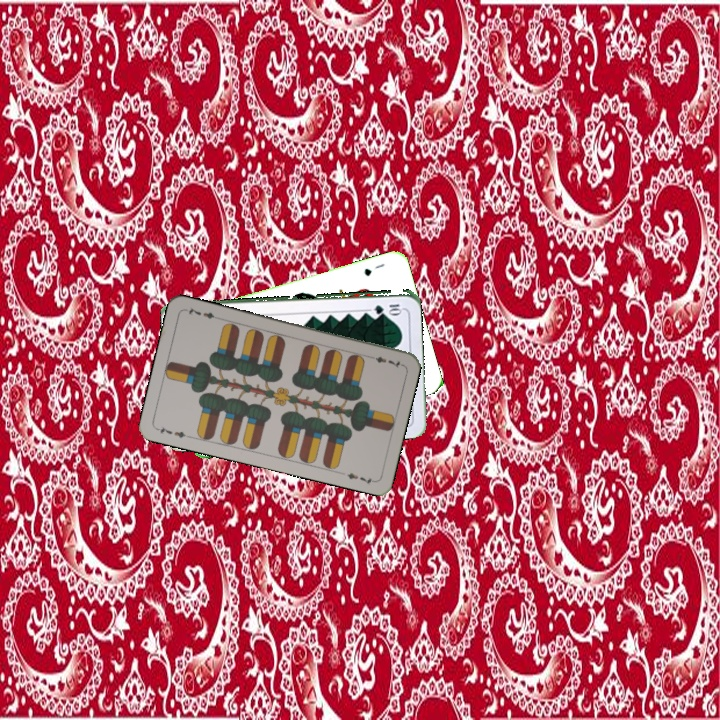E7: (364, 351, 404, 370), (153, 422, 193, 441)
G10: (370, 300, 405, 315)
GU: (360, 259, 387, 278)
